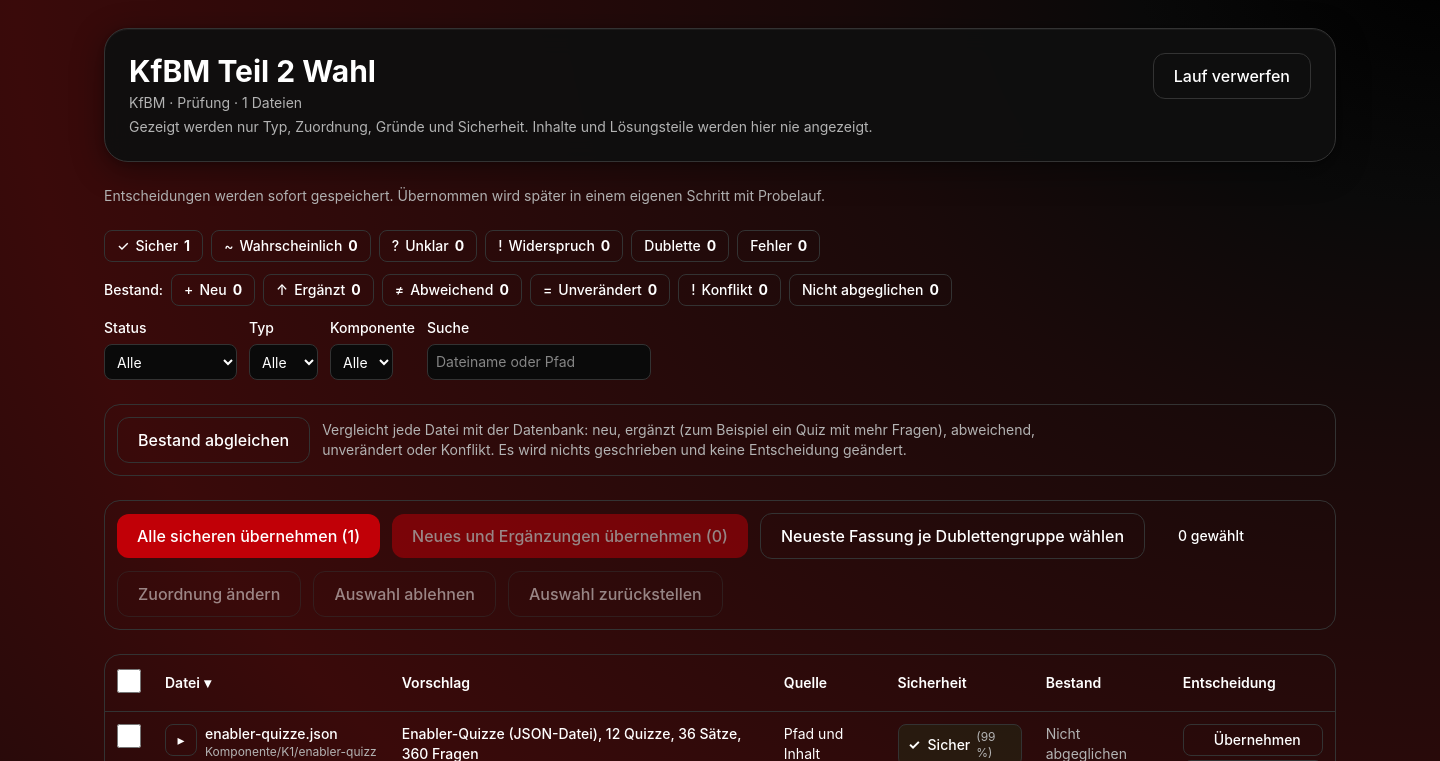
Test: the review of a JSON and an Excel file › says how many sets with errors are skipped
This screenshot has width=1440, height=761.
Click the button named "Details zu enabler-quizze.json anzeigen" at [181, 740], box [165,724,197,756]
(page scrolled)
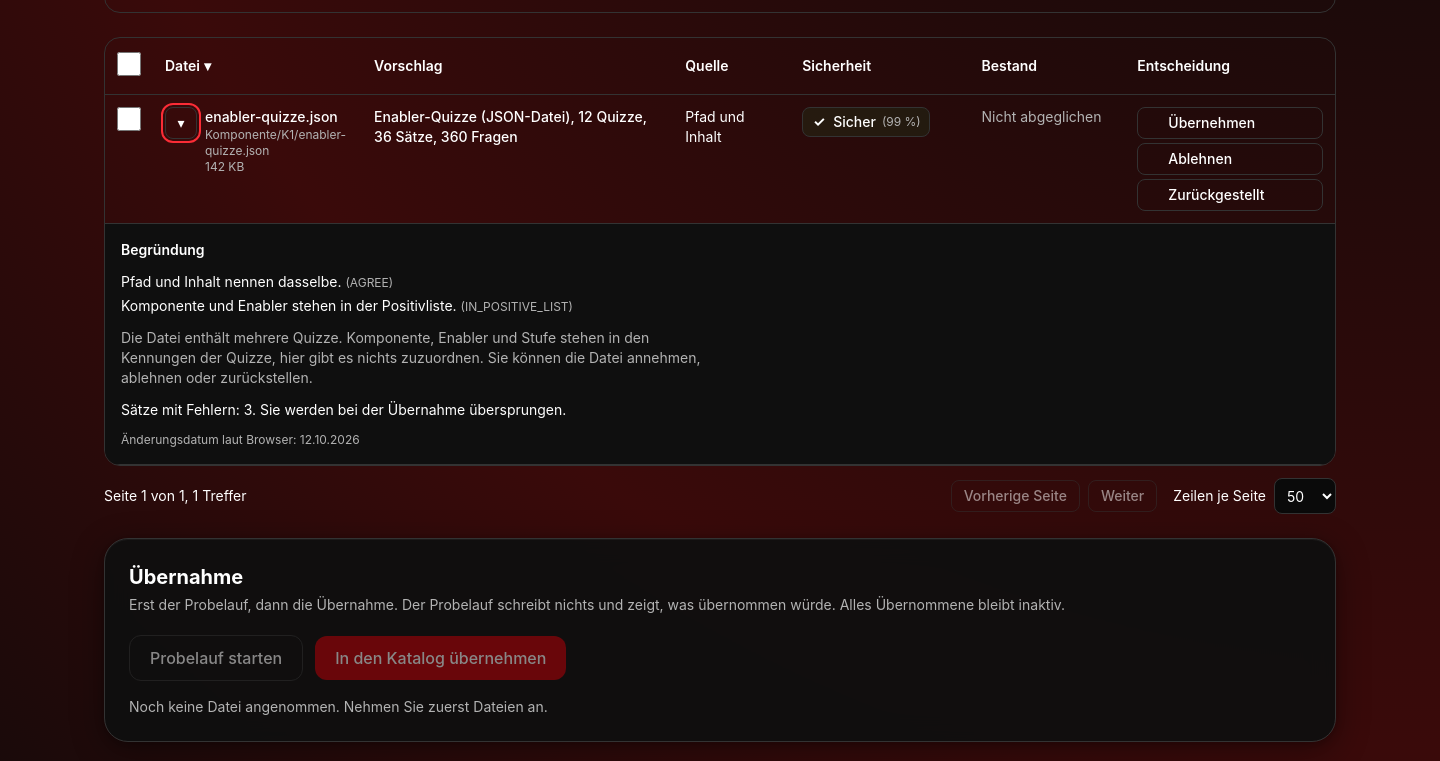
Now the text "Sätze mit Fehlern: 3. Sie werden bei der Übernahme übersprungen." is shown, box [121,401,566,418]
